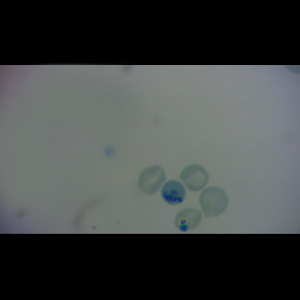aggregate reticulocyte: (160, 179, 187, 206)
erythrocyte: (199, 185, 230, 219), (137, 164, 167, 196), (179, 164, 210, 192), (173, 207, 203, 232)
